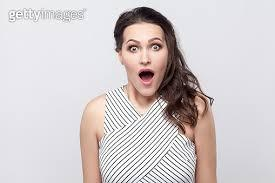opened: (125, 36, 168, 56)
